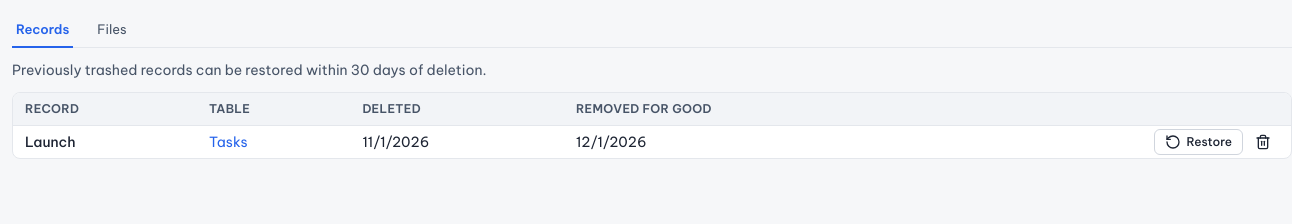
Test: TrashScreen › keeps the record and shows why when removing fails
The width and height of the screenshot is (1292, 224).
Click the button named "Delete Launch forever".
click(1263, 142)  # box [1247,126,1279,158]
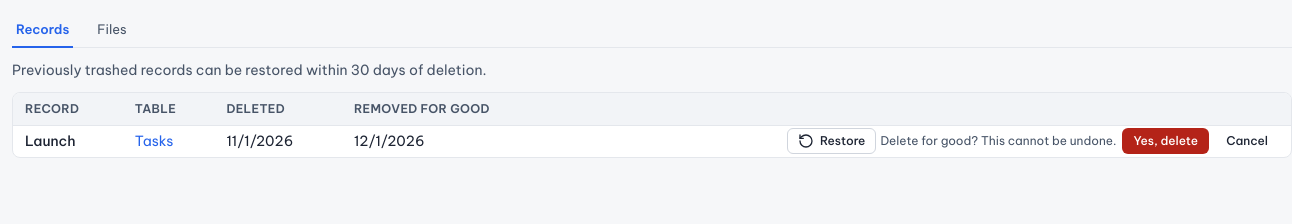
Click the button "Yes, delete".
click(1166, 141)  # box [1122,128,1209,154]
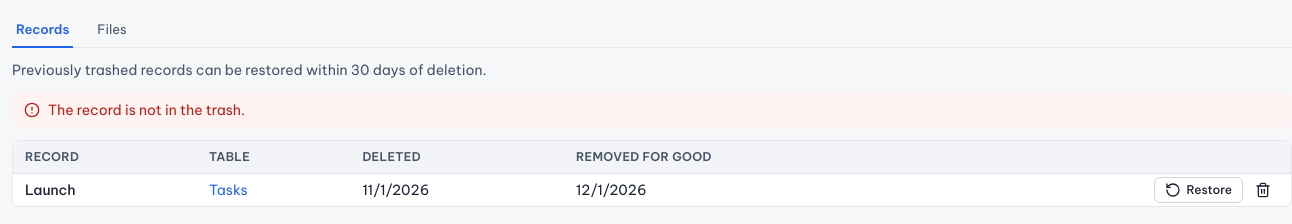
Expected: the text "Launch" is shown, [13,173,197,206]
Now the message shows "not in the trash", box [48,101,245,119]
